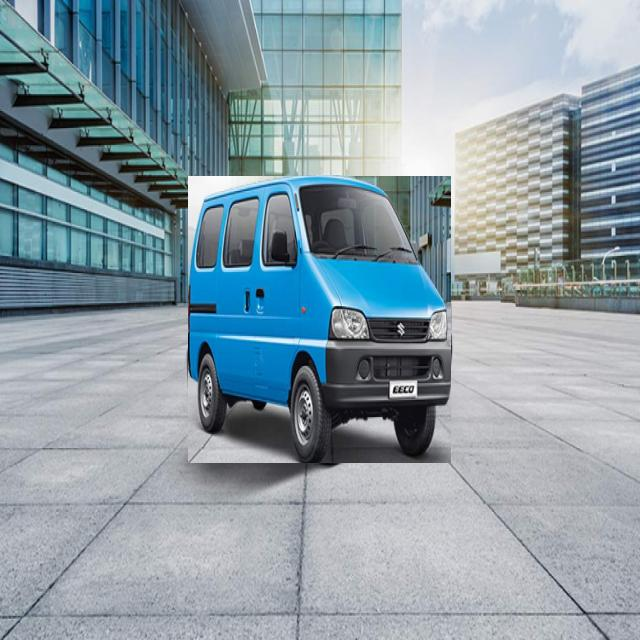bus: (188, 177, 451, 463)
